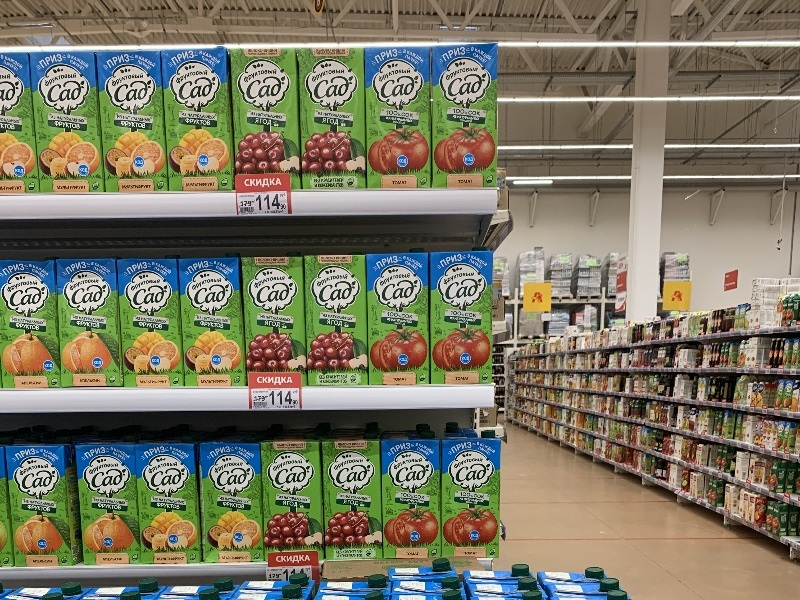juice: (30, 40, 115, 201), (158, 41, 242, 201), (92, 45, 177, 195), (363, 39, 439, 197), (430, 39, 507, 193), (295, 39, 370, 193), (224, 39, 307, 178), (174, 253, 254, 394), (8, 432, 88, 573), (301, 247, 377, 395), (197, 429, 277, 565), (426, 243, 500, 390), (363, 247, 437, 389), (113, 252, 188, 392), (256, 426, 334, 560), (374, 424, 447, 563), (53, 254, 126, 392), (436, 426, 507, 566), (322, 426, 390, 565), (137, 432, 206, 568), (76, 436, 145, 572), (239, 251, 311, 377), (1, 257, 64, 397)
